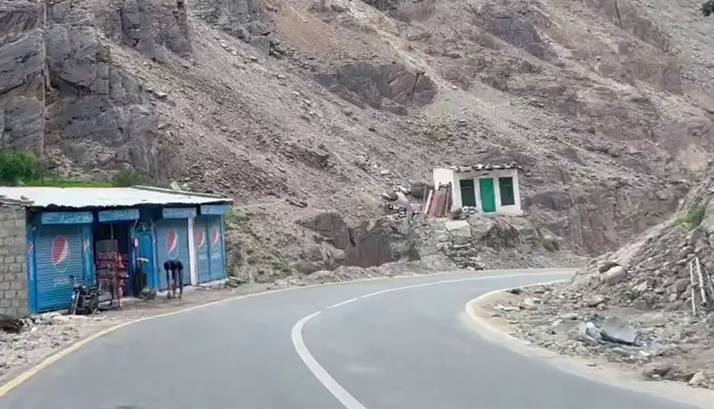stright: (225, 261, 565, 406)
